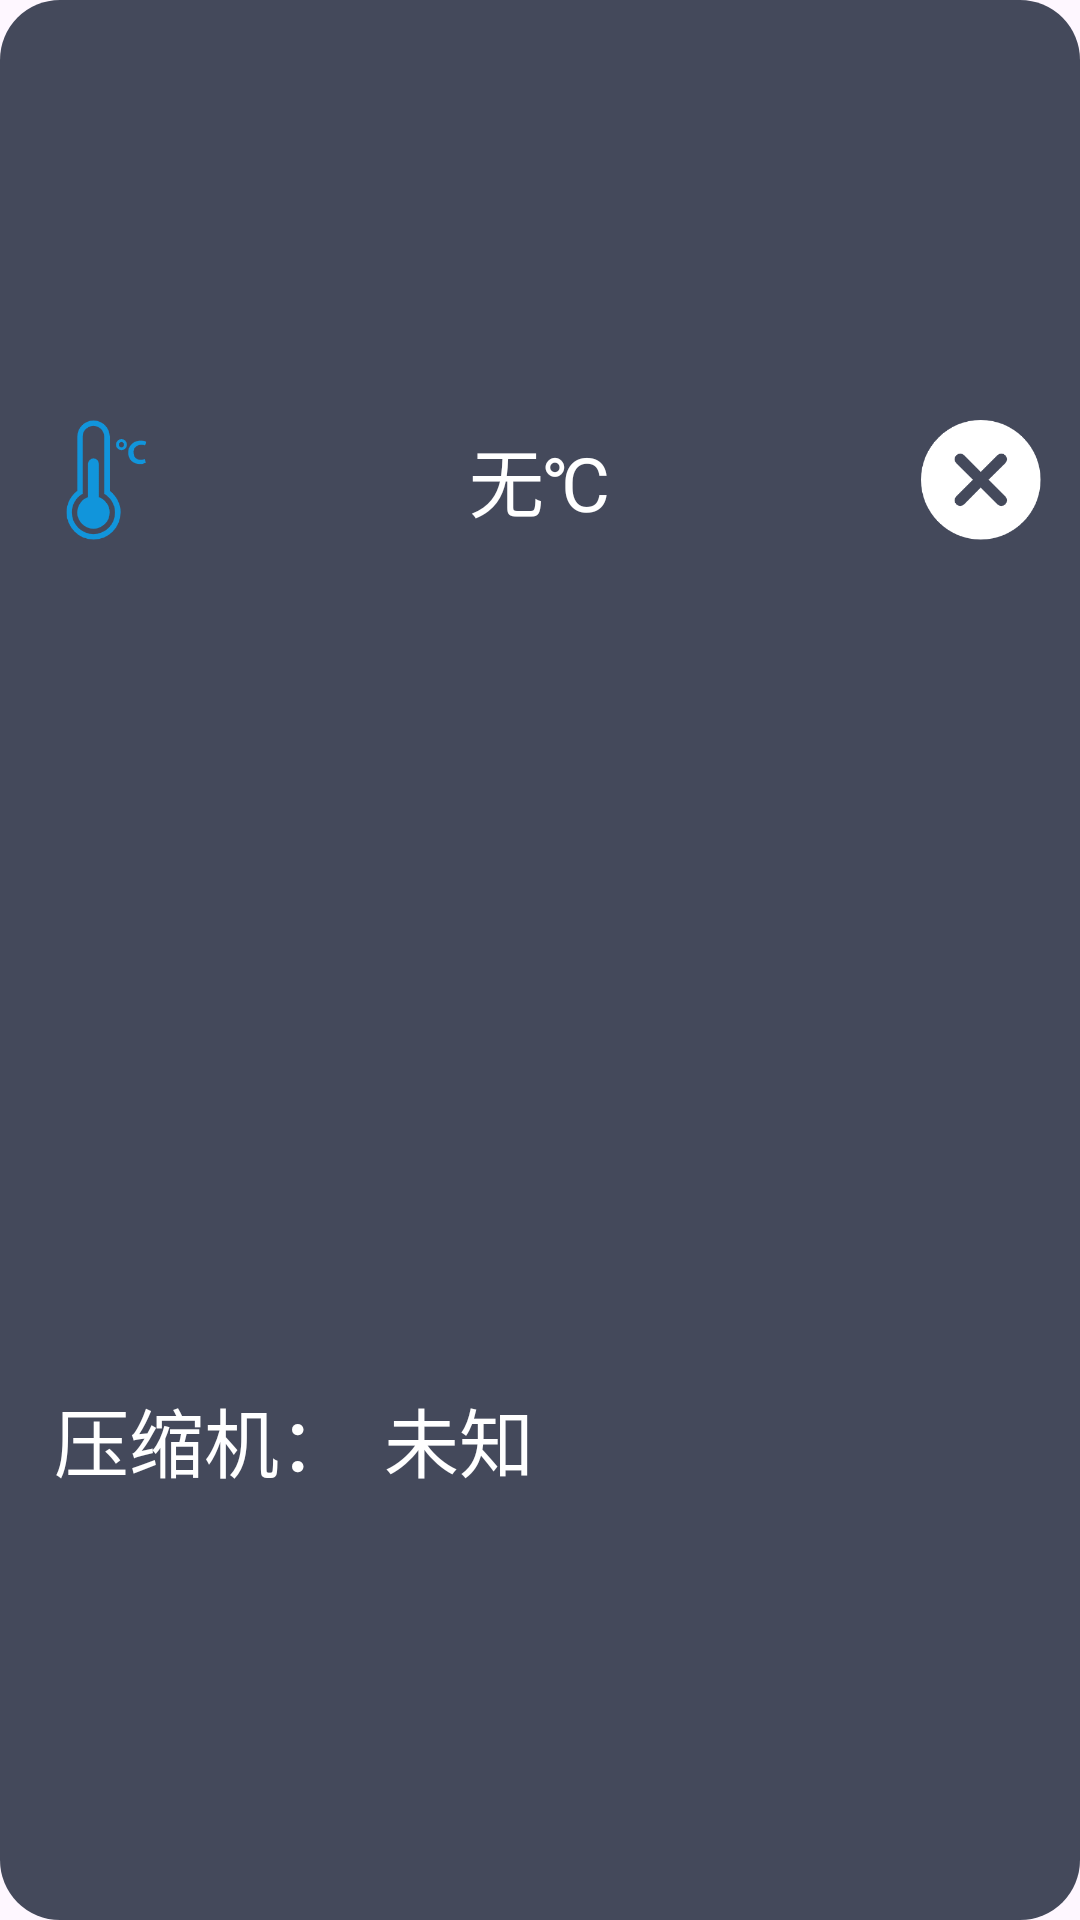

Screen size 1080x1920. Icon name, then its center in pixels as (x=x, y=y):
cha: (x=981, y=480)
temperature: (x=106, y=480)
